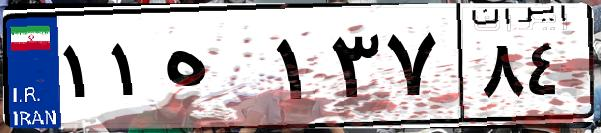1: (270, 28, 330, 110), (57, 26, 110, 100), (110, 28, 158, 98)
3: (330, 28, 385, 110)
4: (525, 38, 570, 115)
7: (385, 28, 445, 110)
8: (475, 38, 525, 113)
ه: (158, 20, 270, 120)
